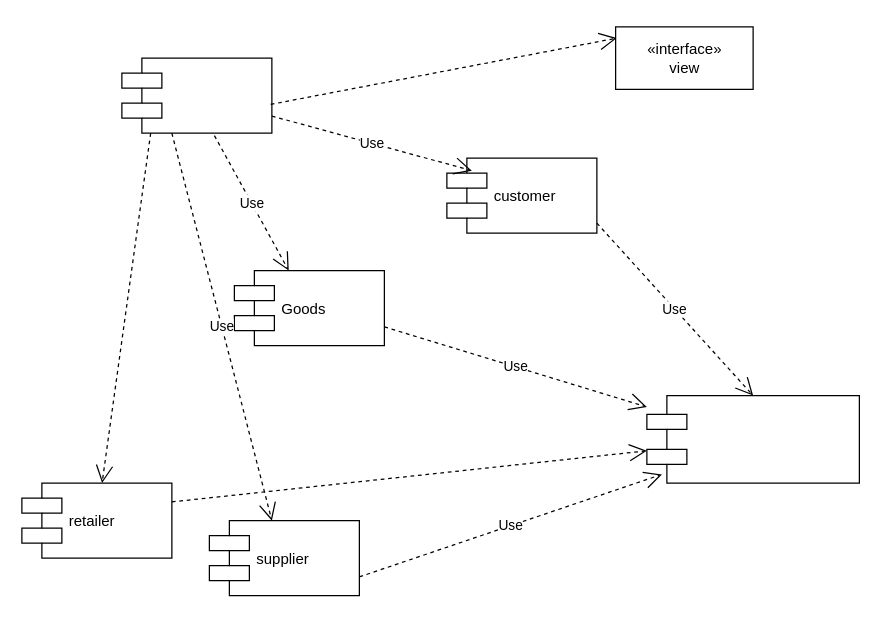
Some shapes in this 881 by 618 pixel diagram are drawn without their labels. The shapes that lost their labels are listed below. From the top down, each one's centre as x and y in pixels, then its label:
At [196,95]: "retail manager".
At [752,438]: "database of files".
